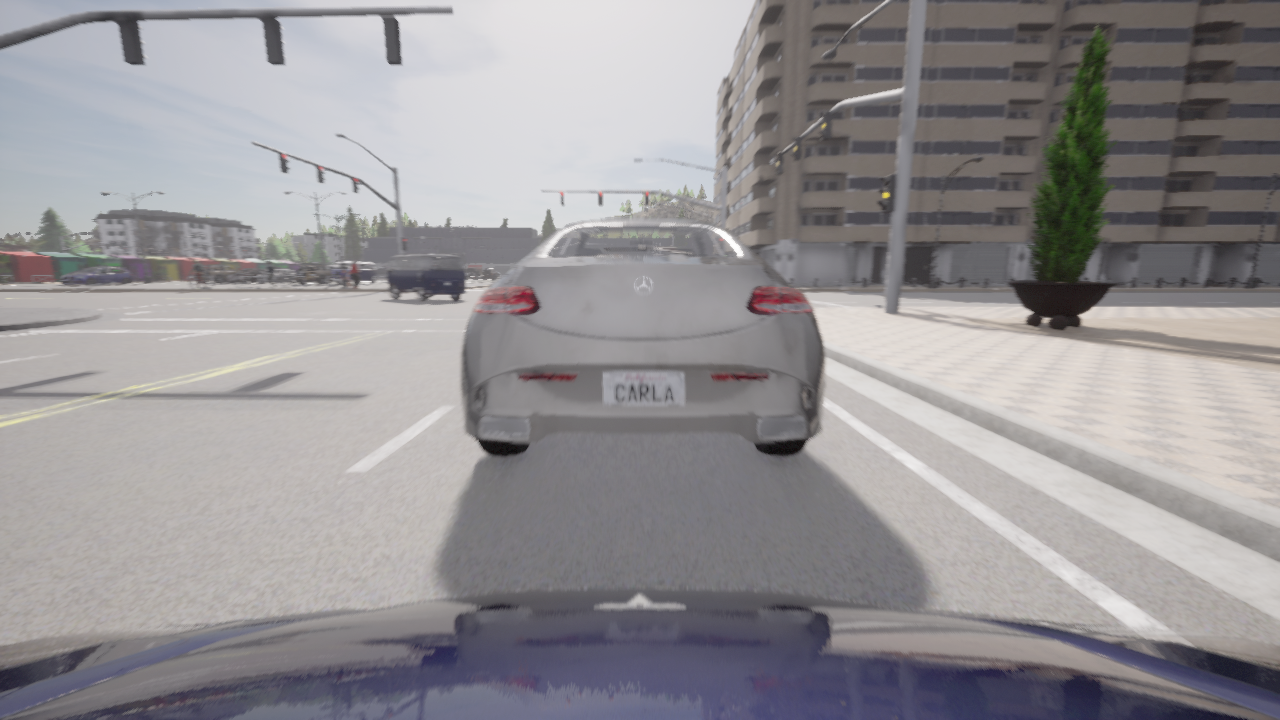cyclist: (0, 588, 1279, 719), (461, 218, 824, 455), (384, 254, 465, 301), (61, 267, 133, 284), (332, 261, 377, 284), (295, 264, 335, 284), (194, 265, 238, 283), (258, 269, 297, 283), (227, 269, 264, 283), (481, 268, 500, 279), (465, 268, 481, 279), (260, 267, 282, 273), (329, 265, 333, 266)
pedestrian: (189, 260, 206, 288), (266, 261, 276, 287), (351, 260, 360, 288), (340, 269, 346, 288), (347, 272, 351, 288)
